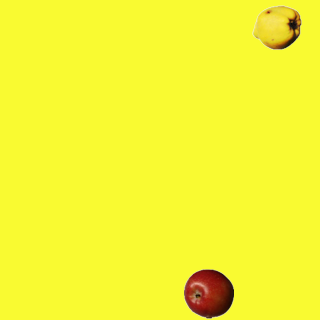Apple Braeburn: (183, 268, 233, 318)
Quince: (251, 2, 301, 52)
